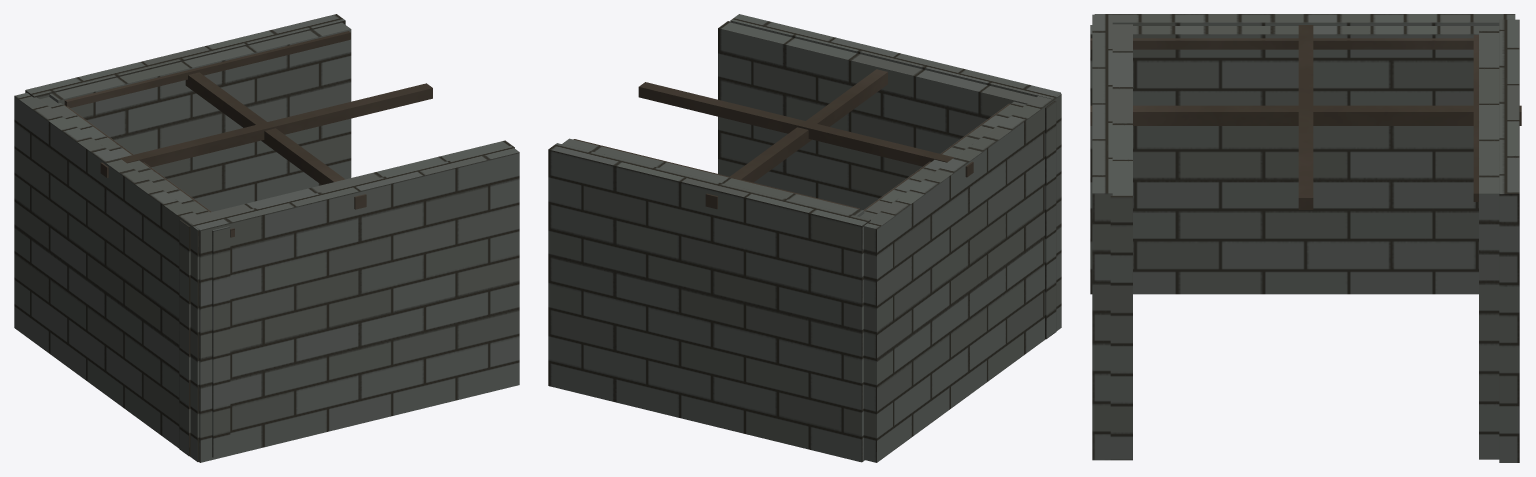
Rendered from dungeon_room_end_rise.glb.
3 views of the same model, side by side, from view 1: azimuth 30°, elevation 25°; view 2: azimuth 150°, elevation 25°; view 3: azimuth 270°, elevation 25° (orthographic). The views are drawn at different scales.
Visible parts, largest first — view 1: dungeon_room_end_rise; view 2: dungeon_room_end_rise; view 3: dungeon_room_end_rise.
Part boxes in pixels (left/top/right/bottom): dungeon_room_end_rise: left=14, top=14, right=519, bottom=462; dungeon_room_end_rise: left=548, top=14, right=1061, bottom=462; dungeon_room_end_rise: left=1090, top=14, right=1521, bottom=462.
Bounding box in the file's own units: 5.05 × 3.47 × 5.05.
Materials: 1 (1 with a texture image).
